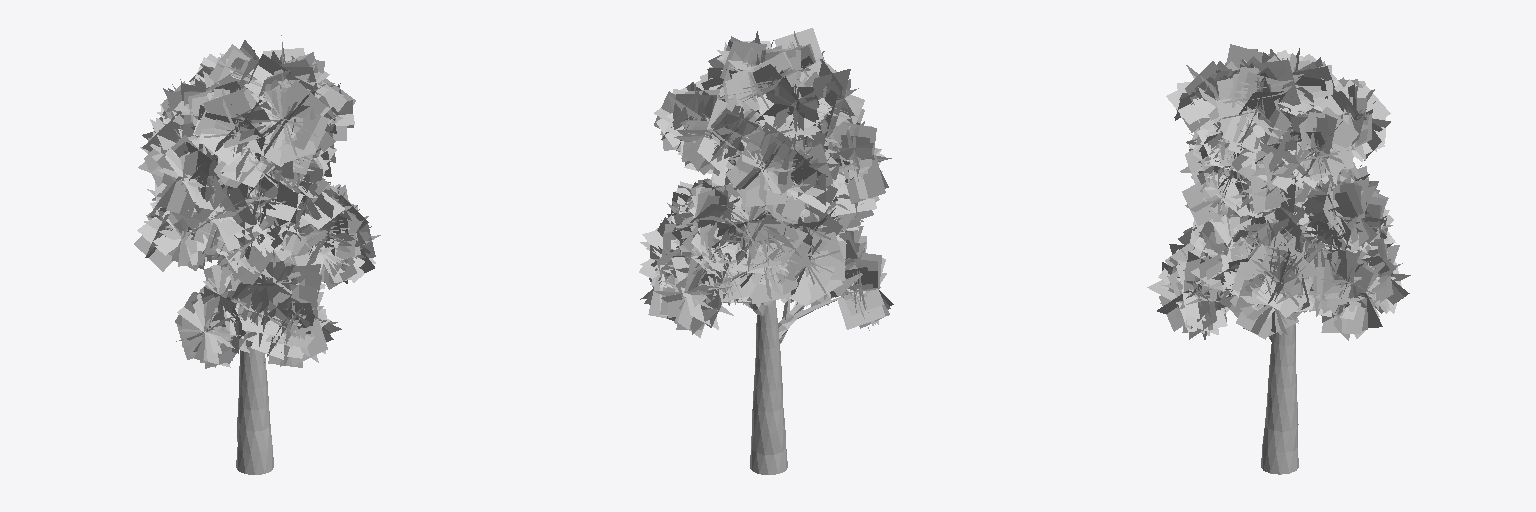
The model's file is tree_1.obj.
3 views of the same model, side by side, from view 1: azimuth 30°, elevation 25°; view 2: azimuth 150°, elevation 25°; view 3: azimuth 270°, elevation 25° (orthographic).
Visible parts, largest first — view 1: Mesh_1.001, Mesh_0.001; view 2: Mesh_1.001, Mesh_0.001; view 3: Mesh_1.001, Mesh_0.001.
Part boxes in pixels (bbox=[...]): Mesh_1.001: bbox=[134, 35, 380, 368]; Mesh_0.001: bbox=[236, 340, 273, 474]; Mesh_1.001: bbox=[639, 28, 893, 337]; Mesh_0.001: bbox=[723, 297, 843, 474]; Mesh_1.001: bbox=[1147, 44, 1410, 340]; Mesh_0.001: bbox=[1261, 324, 1298, 474].
Bounding box in the file's own units: 39.37 × 72.69 × 41.54.